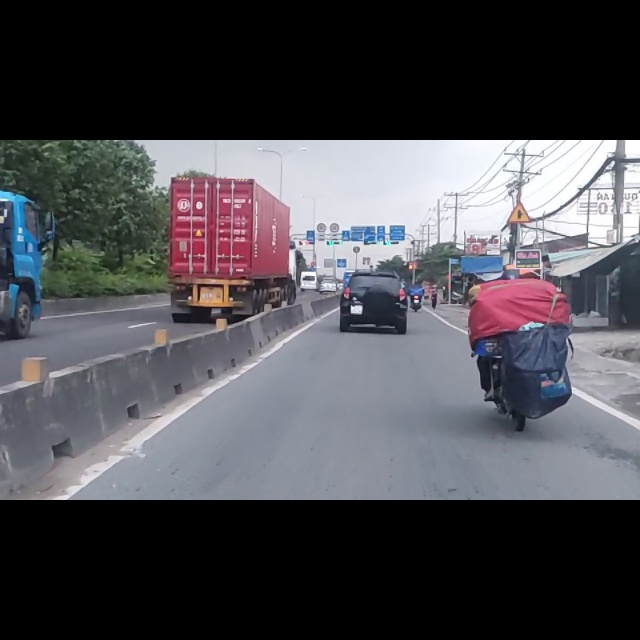bien_cam: (507, 109, 531, 147), (330, 148, 339, 164)
